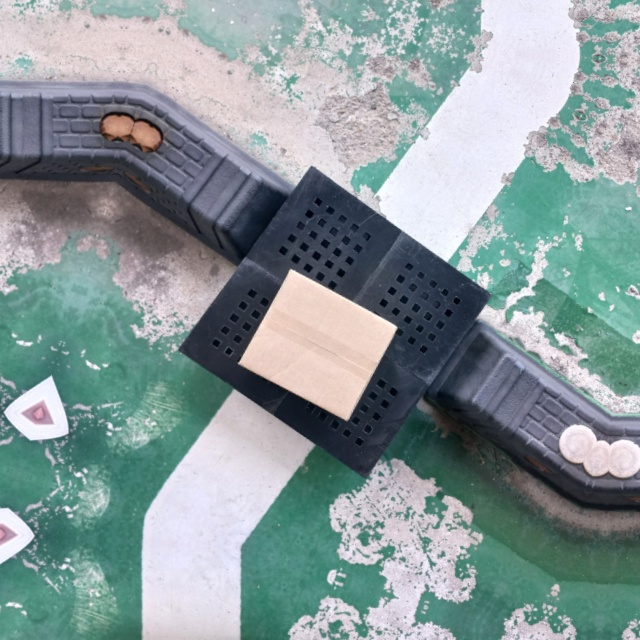box: (235, 264, 402, 427)
pallet: (173, 157, 492, 485)
